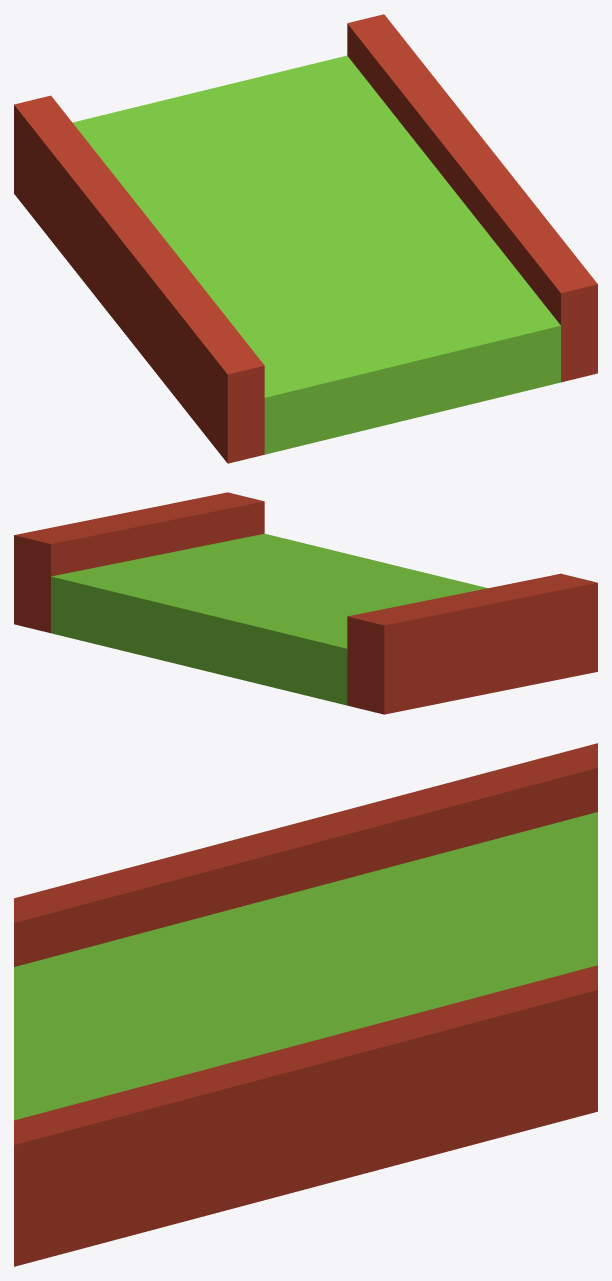
Rendered from Ramp_044M.FBX.
3 views of the same model, one above another, from view 1: azimuth 30°, elevation 25°; view 2: azimuth 150°, elevation 25°; view 3: azimuth 270°, elevation 25° (orthographic). The views are drawn at different scales.
Parts seen in each view (by area): view 1: Ramp_2_01, Walls; view 2: Walls, Ramp_2_01; view 3: Walls, Ramp_2_01.
Boxes of the visible parts, box(x1,y1,x2,y2) form: Ramp_2_01: box(72, 55, 560, 454); Walls: box(14, 14, 597, 463); Walls: box(14, 492, 597, 714); Ramp_2_01: box(51, 533, 487, 705); Walls: box(14, 743, 597, 1266); Ramp_2_01: box(14, 812, 597, 1120).
Bounding box in the file's own units: 0.9999 × 0.9999 × 0.5233.
